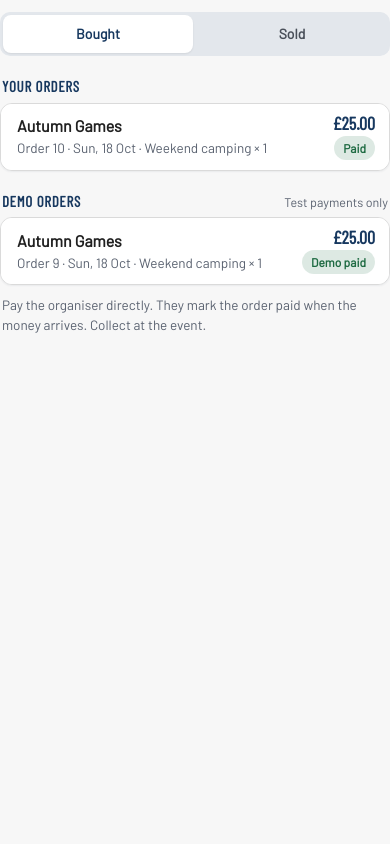
Orders and sales: an order in a sheet › says Demo paid, not Paid, on a paid demo order in the list and the sheet, and Paid on a real one
Expected: the text "Demo paid" is shown, [302, 250, 375, 274]
Expected: the text "Paid" is shown, [334, 136, 375, 160]
Click the button "Order 9".
click(195, 251)  # box [1, 218, 389, 284]
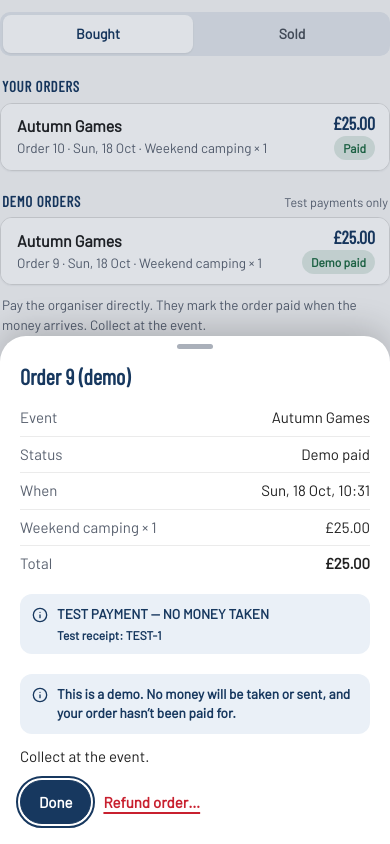
Expected: the text "Demo paid" is shown, [301, 445, 370, 464]
